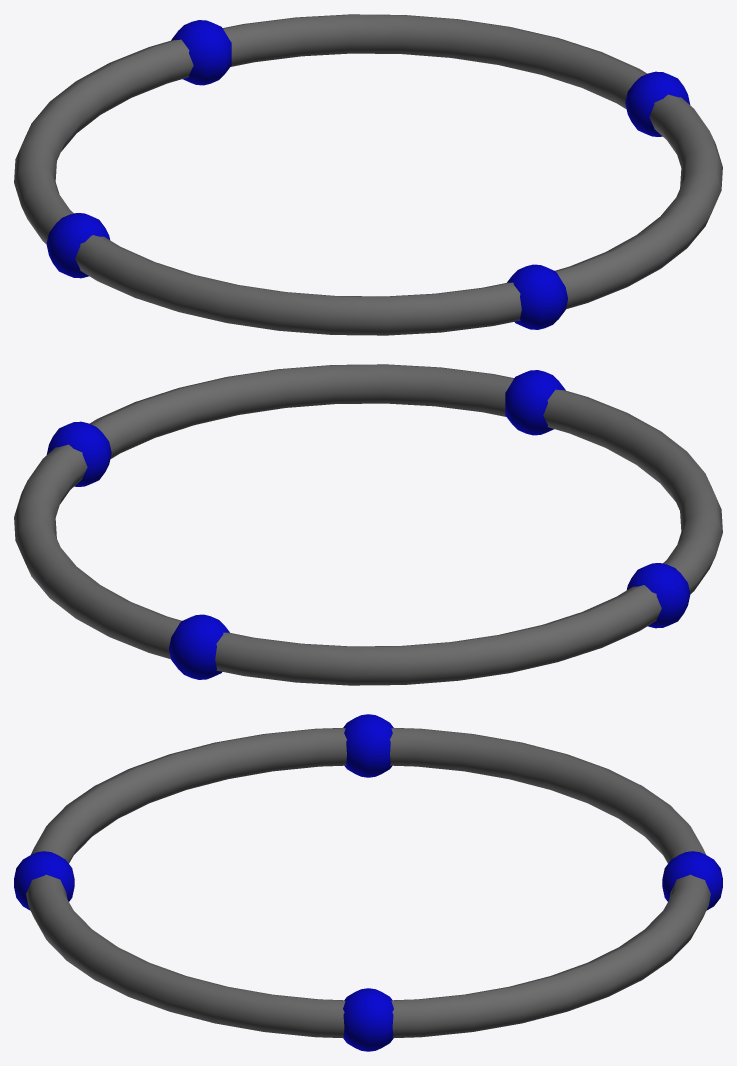
File: enemy_halo_ring.obj
3 renders of one model, top to bottom at view 1: azimuth 30°, elevation 25°; view 2: azimuth 150°, elevation 25°; view 3: azimuth 270°, elevation 25°, orthographic. The views are drawn at different scales.
Visible parts, largest first — view 1: ring, knob; view 2: ring, knob; view 3: ring, knob.
Boxes of the visible parts, bbox=[...] form: ring: bbox=[14, 14, 722, 335]; knob: bbox=[46, 20, 690, 329]; ring: bbox=[14, 364, 722, 685]; knob: bbox=[46, 370, 690, 679]; ring: bbox=[26, 728, 710, 1038]; knob: bbox=[14, 714, 722, 1051].
Size of the model in its own units: 1.23 by 0.11 by 1.22.
